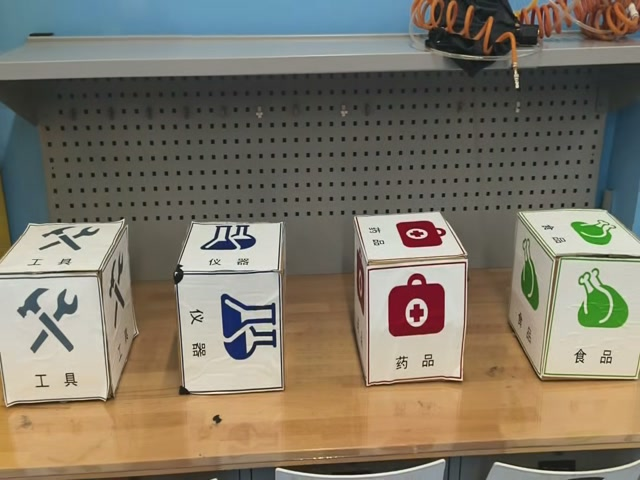Cube_food: (515, 208, 637, 260)
Cube_ins: (175, 224, 283, 277)
Cube_medicine: (355, 211, 469, 265)
Cube_tool: (1, 221, 126, 275)
